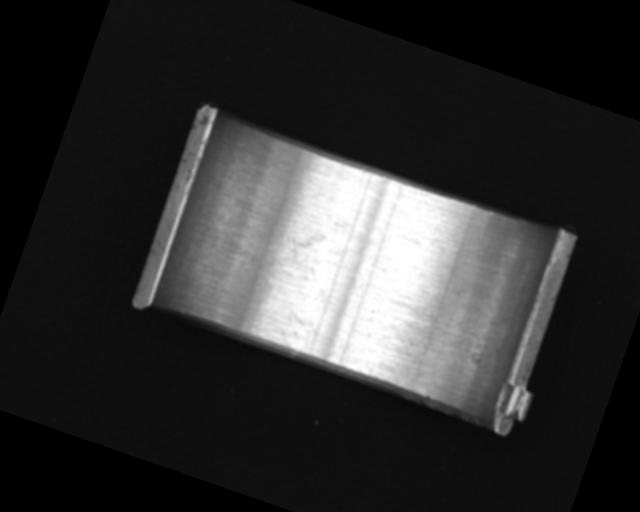blot: (272, 220, 331, 282)
